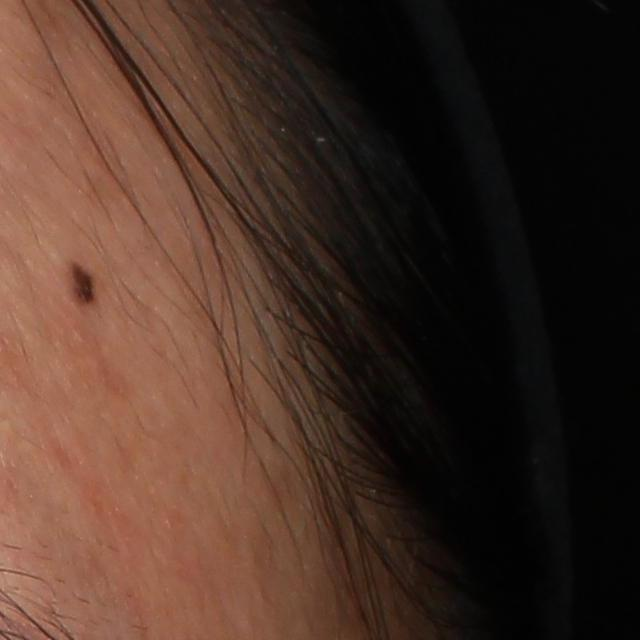nevus: (65, 257, 102, 303)
